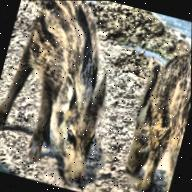boar: (0, 0, 130, 184)
